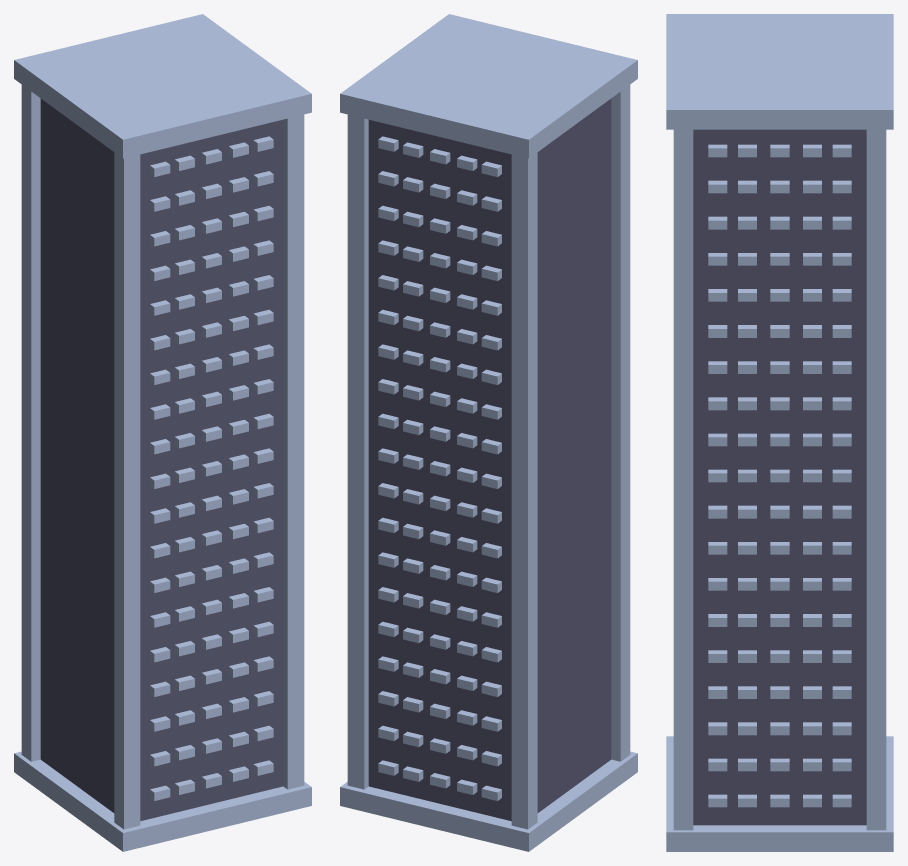
The model's file is H_gebouw2.fbx.
The picture shows the model from 3 angles, left to right: view 1: azimuth 30°, elevation 25°; view 2: azimuth 150°, elevation 25°; view 3: azimuth 270°, elevation 25°; orthographic projection. The views are drawn at different scales.
Parts seen in each view (by area): view 1: pCube1, pCube11, windows_left; view 2: pCube1, pCube11, windows_right; view 3: pCube1, pCube11, windows_front.
Part boxes in pixels (x1,y1,x2,y2): pCube1: (40, 98, 283, 821); pCube11: (14, 14, 311, 851); windows_left: (150, 136, 273, 800); pCube1: (368, 98, 611, 821); pCube11: (340, 14, 637, 851); windows_right: (378, 136, 501, 800); pCube1: (693, 129, 866, 825); pCube11: (666, 14, 893, 851); windows_front: (708, 144, 851, 807).
Bounding box in the file's own units: 5.7 × 20.54 × 5.7.
